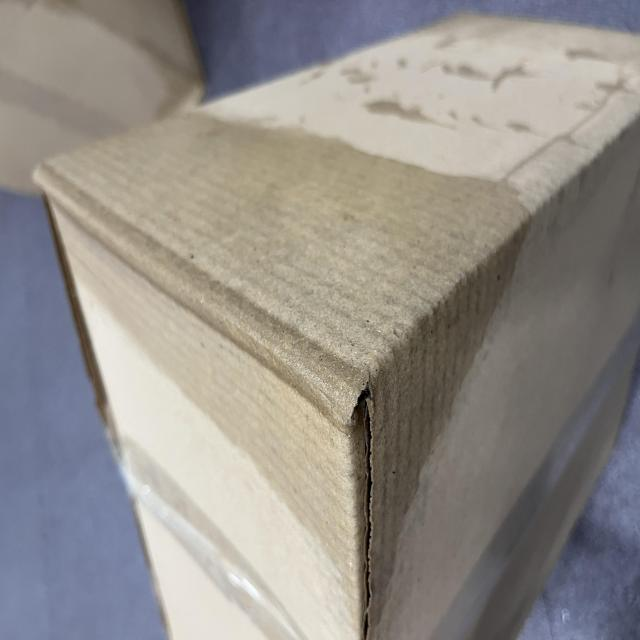wet: (18, 109, 397, 640)
